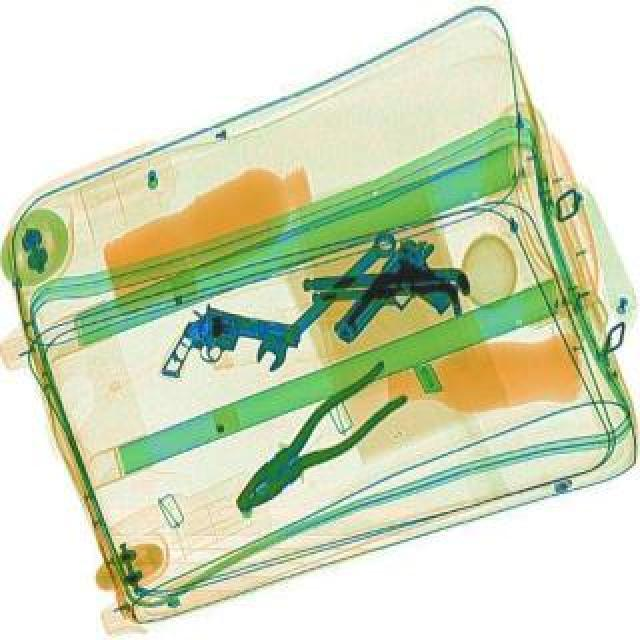gun: (330, 226, 478, 374), (160, 298, 304, 400)
scissors: (246, 220, 406, 372)
wrench: (214, 356, 414, 524)
